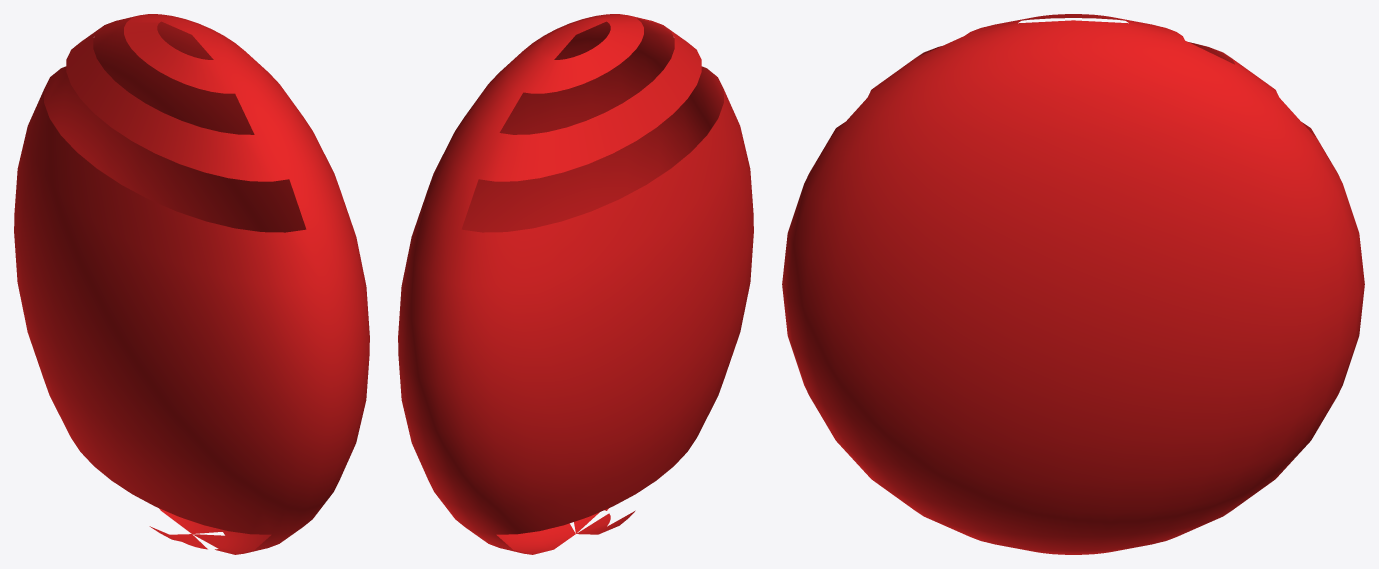
Rendered from rojo (semaforo).fbx.
The picture shows the model from 3 angles, left to right: view 1: azimuth 30°, elevation 25°; view 2: azimuth 150°, elevation 25°; view 3: azimuth 270°, elevation 25°; orthographic projection. The views are drawn at different scales.
Parts seen in each view (by area): view 1: Cube.002; view 2: Cube.002; view 3: Cube.002.
Part boxes in pixels (bbox=[...]): Cube.002: bbox=[14, 14, 369, 554]; Cube.002: bbox=[398, 14, 753, 554]; Cube.002: bbox=[782, 14, 1364, 554].
Bounding box in the file's own units: 3.93 × 8.24 × 8.24.
1 material, 1 textured.
